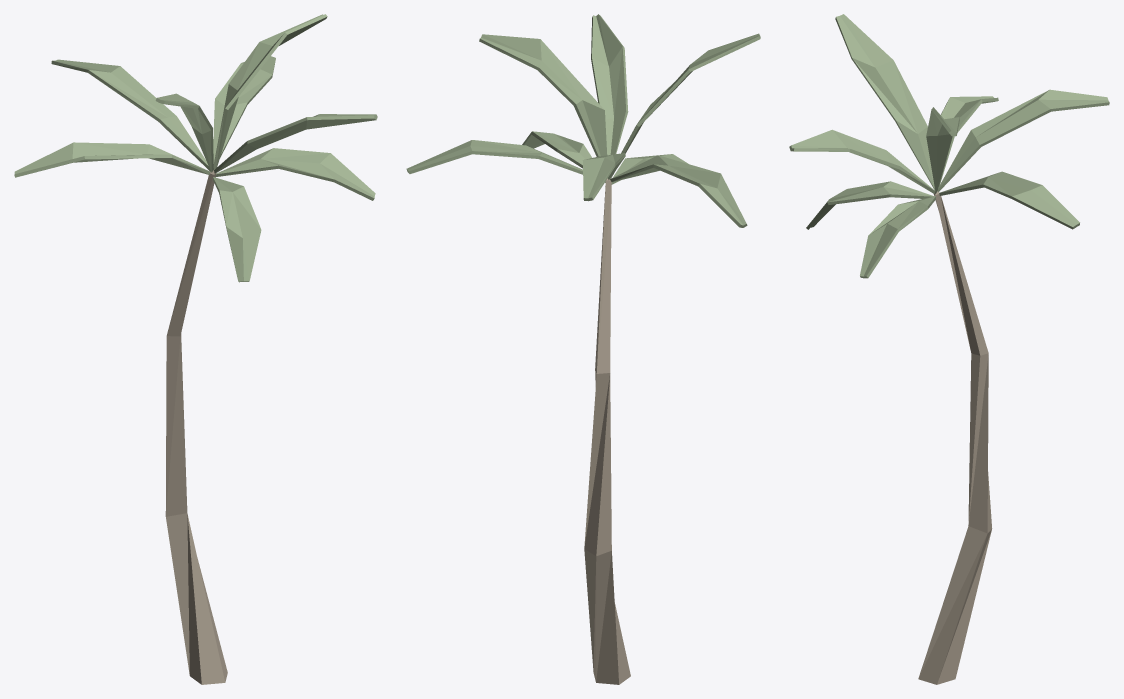
The model's file is PhoenixDactylifera.glb.
The picture shows the model from 3 angles, left to right: view 1: azimuth 30°, elevation 25°; view 2: azimuth 150°, elevation 25°; view 3: azimuth 270°, elevation 25°; orthographic projection. The views are drawn at different scales.
Visible parts, largest first — view 1: Crown, Trunk; view 2: Crown, Trunk; view 3: Crown, Trunk.
Boxes of the visible parts, x1,y1,x2,y2 form: Crown: (14,14,377,282); Trunk: (165,169,227,684); Crown: (406,14,760,227); Trunk: (584,178,630,684); Crown: (789,14,1109,278); Trunk: (918,191,992,684).
Bounding box in the file's own units: 10.29 × 20.72 × 9.79.
